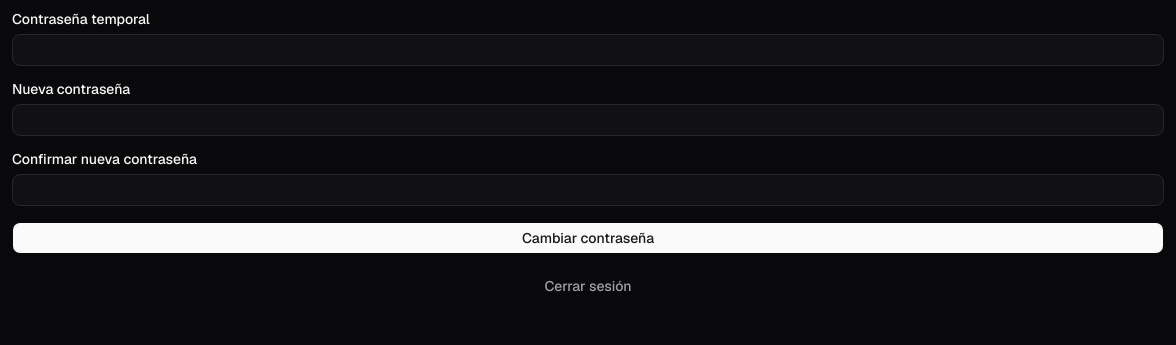
Test case: ForcedPasswordChangeForm — network failure › recovers from a rejected fetch instead of hanging on the disabled button
The width and height of the screenshot is (1176, 345).
Type "temp-pass" into the password field labelled "Contraseña temporal" at (588, 50), box 12,34 -> 1164,66
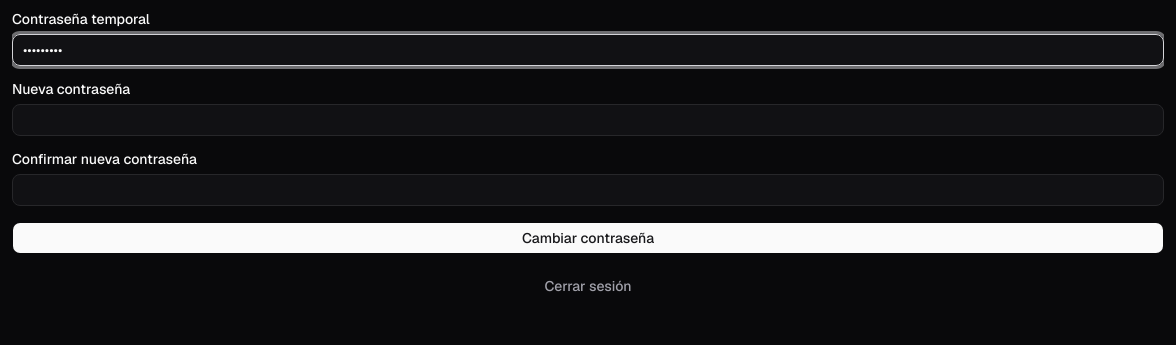
Type "a-new-password" into the password field labelled "Nueva contraseña" at (588, 120), box 12,104 -> 1164,136
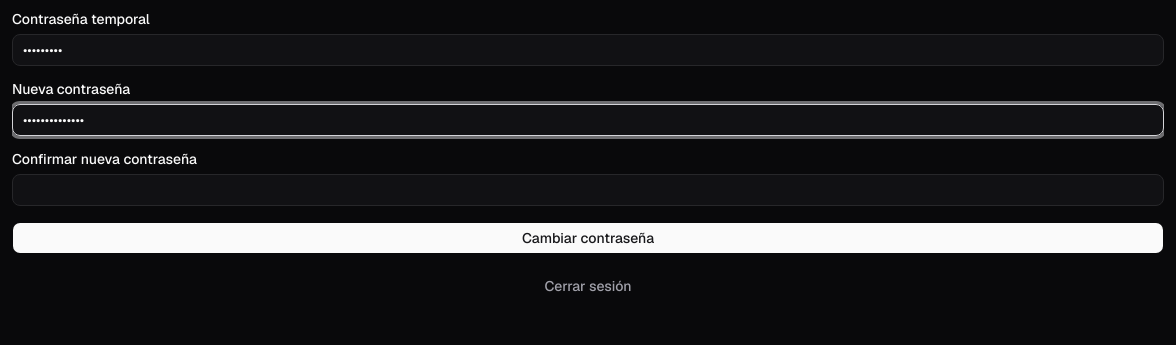
Type "a-new-password" into the password field labelled "Confirmar nueva contraseña" at (588, 190), box 12,174 -> 1164,206
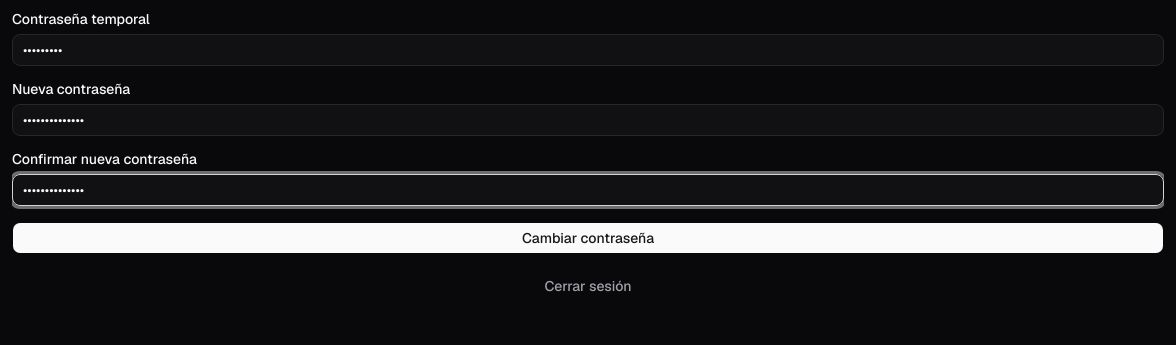
Click the button "Cambiar contraseña" at (588, 238), box 12,222 -> 1164,254
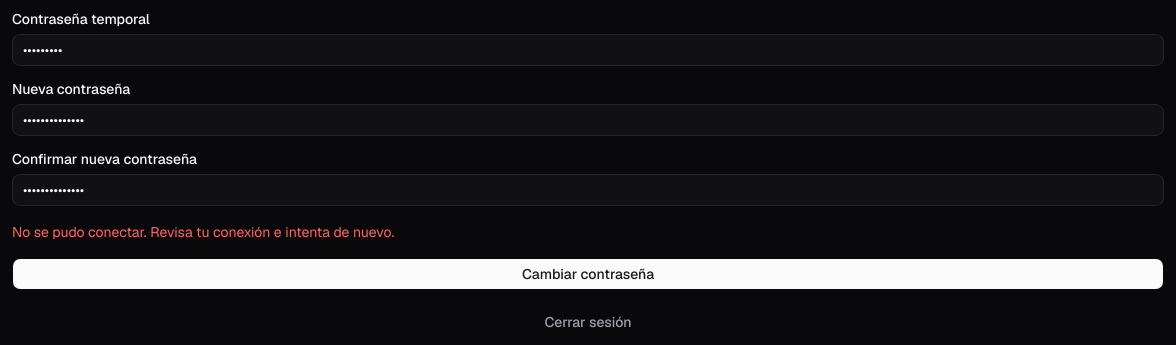
Expected: the button "Cambiar contraseña" is enabled, 12,258 -> 1164,290
Expected: the message reads "No se pudo conectar. Revisa tu conexión e intenta de nuevo.", 12,223 -> 394,241
